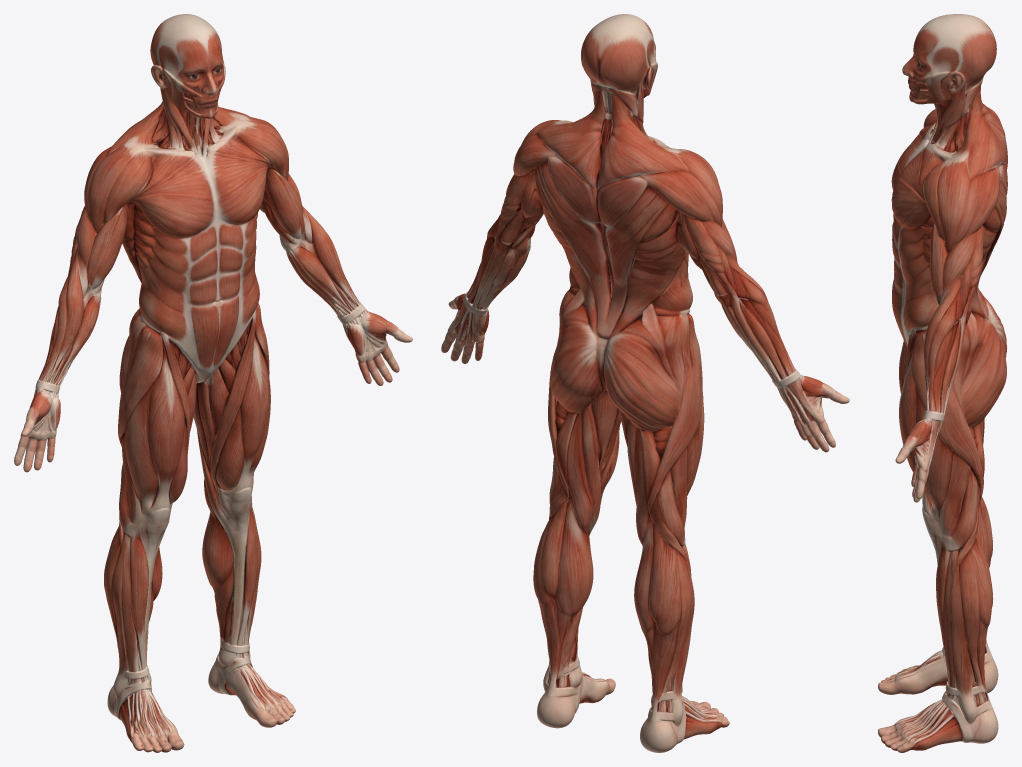
Rendered from orkod-human-body.0db6962c.glb.
3 views of the same model, side by side, from view 1: azimuth 30°, elevation 25°; view 2: azimuth 150°, elevation 25°; view 3: azimuth 270°, elevation 25° (orthographic). The views are drawn at different scales.
Visible parts, largest first — view 1: human-muscles; view 2: human-muscles; view 3: human-muscles.
Part boxes in pixels (x1=…): human-muscles: x1=14, y1=14, x2=412, y2=752; human-muscles: x1=441, y1=14, x2=849, y2=752; human-muscles: x1=878, y1=14, x2=1007, y2=752.
Size of the model in its own units: 1.02 by 1.73 by 0.2907.
Materials: 1 (1 with a texture image).
